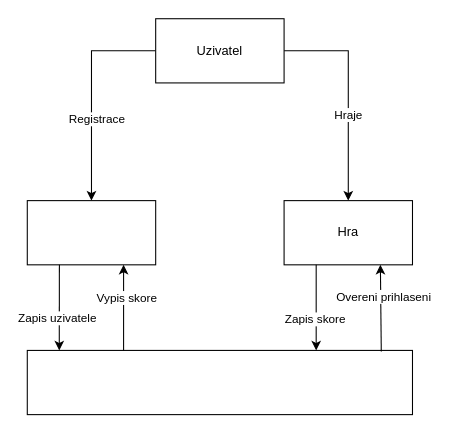
Some shapes in this 449 by 433 pixel diagram are drawn without their labels. The shapes that lost their labels are listed below. From the top down, each one's centre as x and y in pixels, then its label:
At (x=91, y=232): "Web (Flask)".
At (x=219, y=382): "Databaze".
